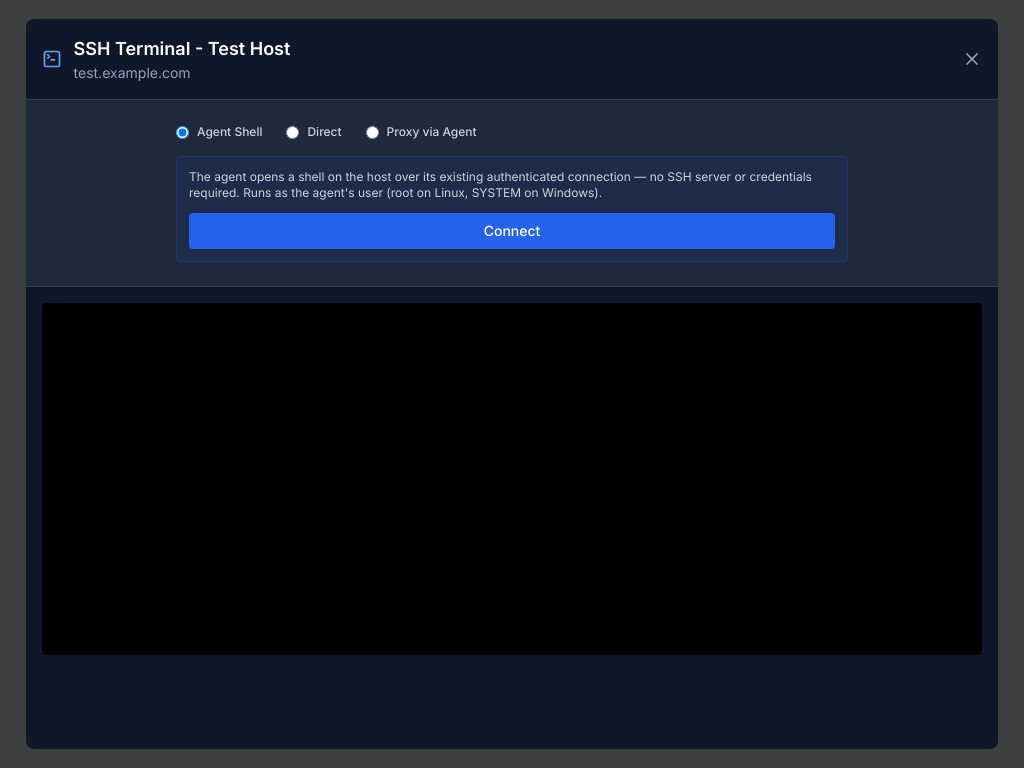
Scenario: SshTerminal Component › Rendering › should render SSH credential form in Direct mode
Click the radio button labelled "Direct".
click(293, 132)  # box left=286, top=126, right=300, bottom=139
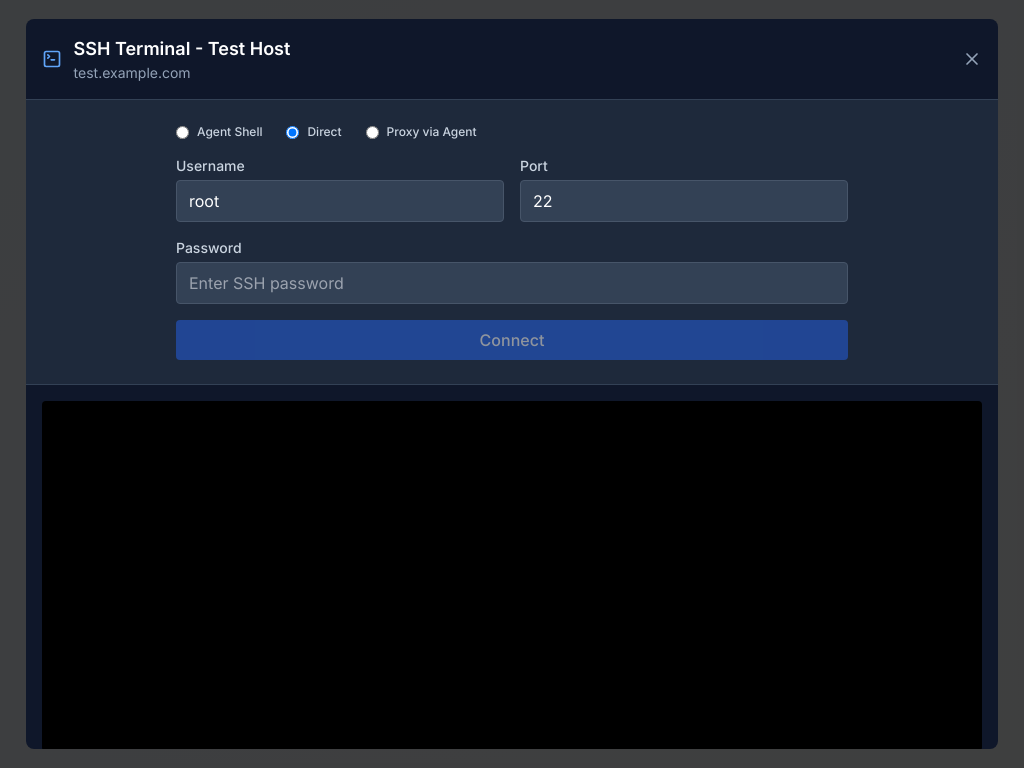
Now the field with placeholder "root" is shown, box left=176, top=180, right=504, bottom=222
Now the password field with placeholder "Enter SSH password" is shown, box left=176, top=262, right=848, bottom=304
